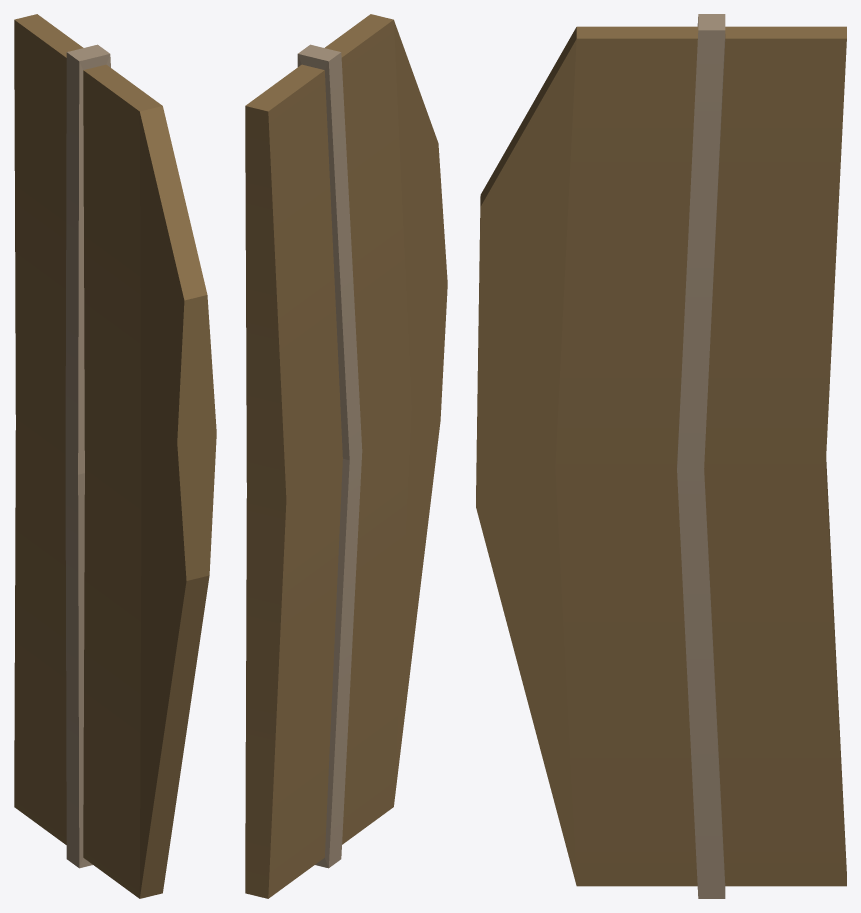
Rendered from Carton planche.fbx.
The picture shows the model from 3 angles, left to right: view 1: azimuth 30°, elevation 25°; view 2: azimuth 150°, elevation 25°; view 3: azimuth 270°, elevation 25°; orthographic projection. The views are drawn at different scales.
Visible parts, largest first — view 1: pCube15; view 2: pCube15; view 3: pCube15.
Part boxes in pixels (x1,y1,x2,y2): pCube15: (14, 14, 216, 898); pCube15: (245, 14, 447, 898); pCube15: (476, 14, 846, 898).
Size of the model in its own units: 0.4345 by 6.3 by 2.44.
